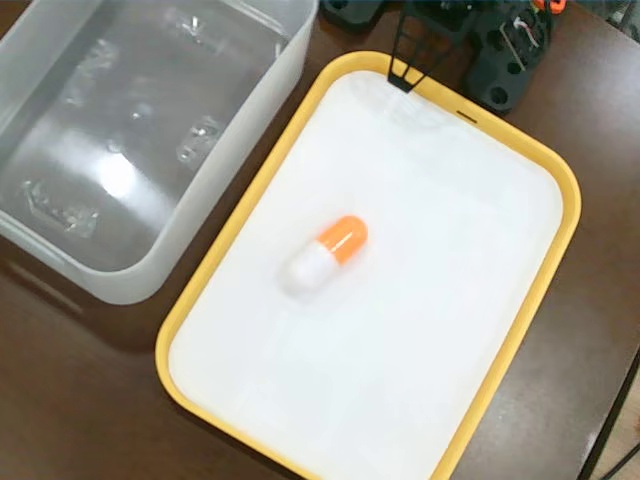pill: (284, 214, 371, 291)
